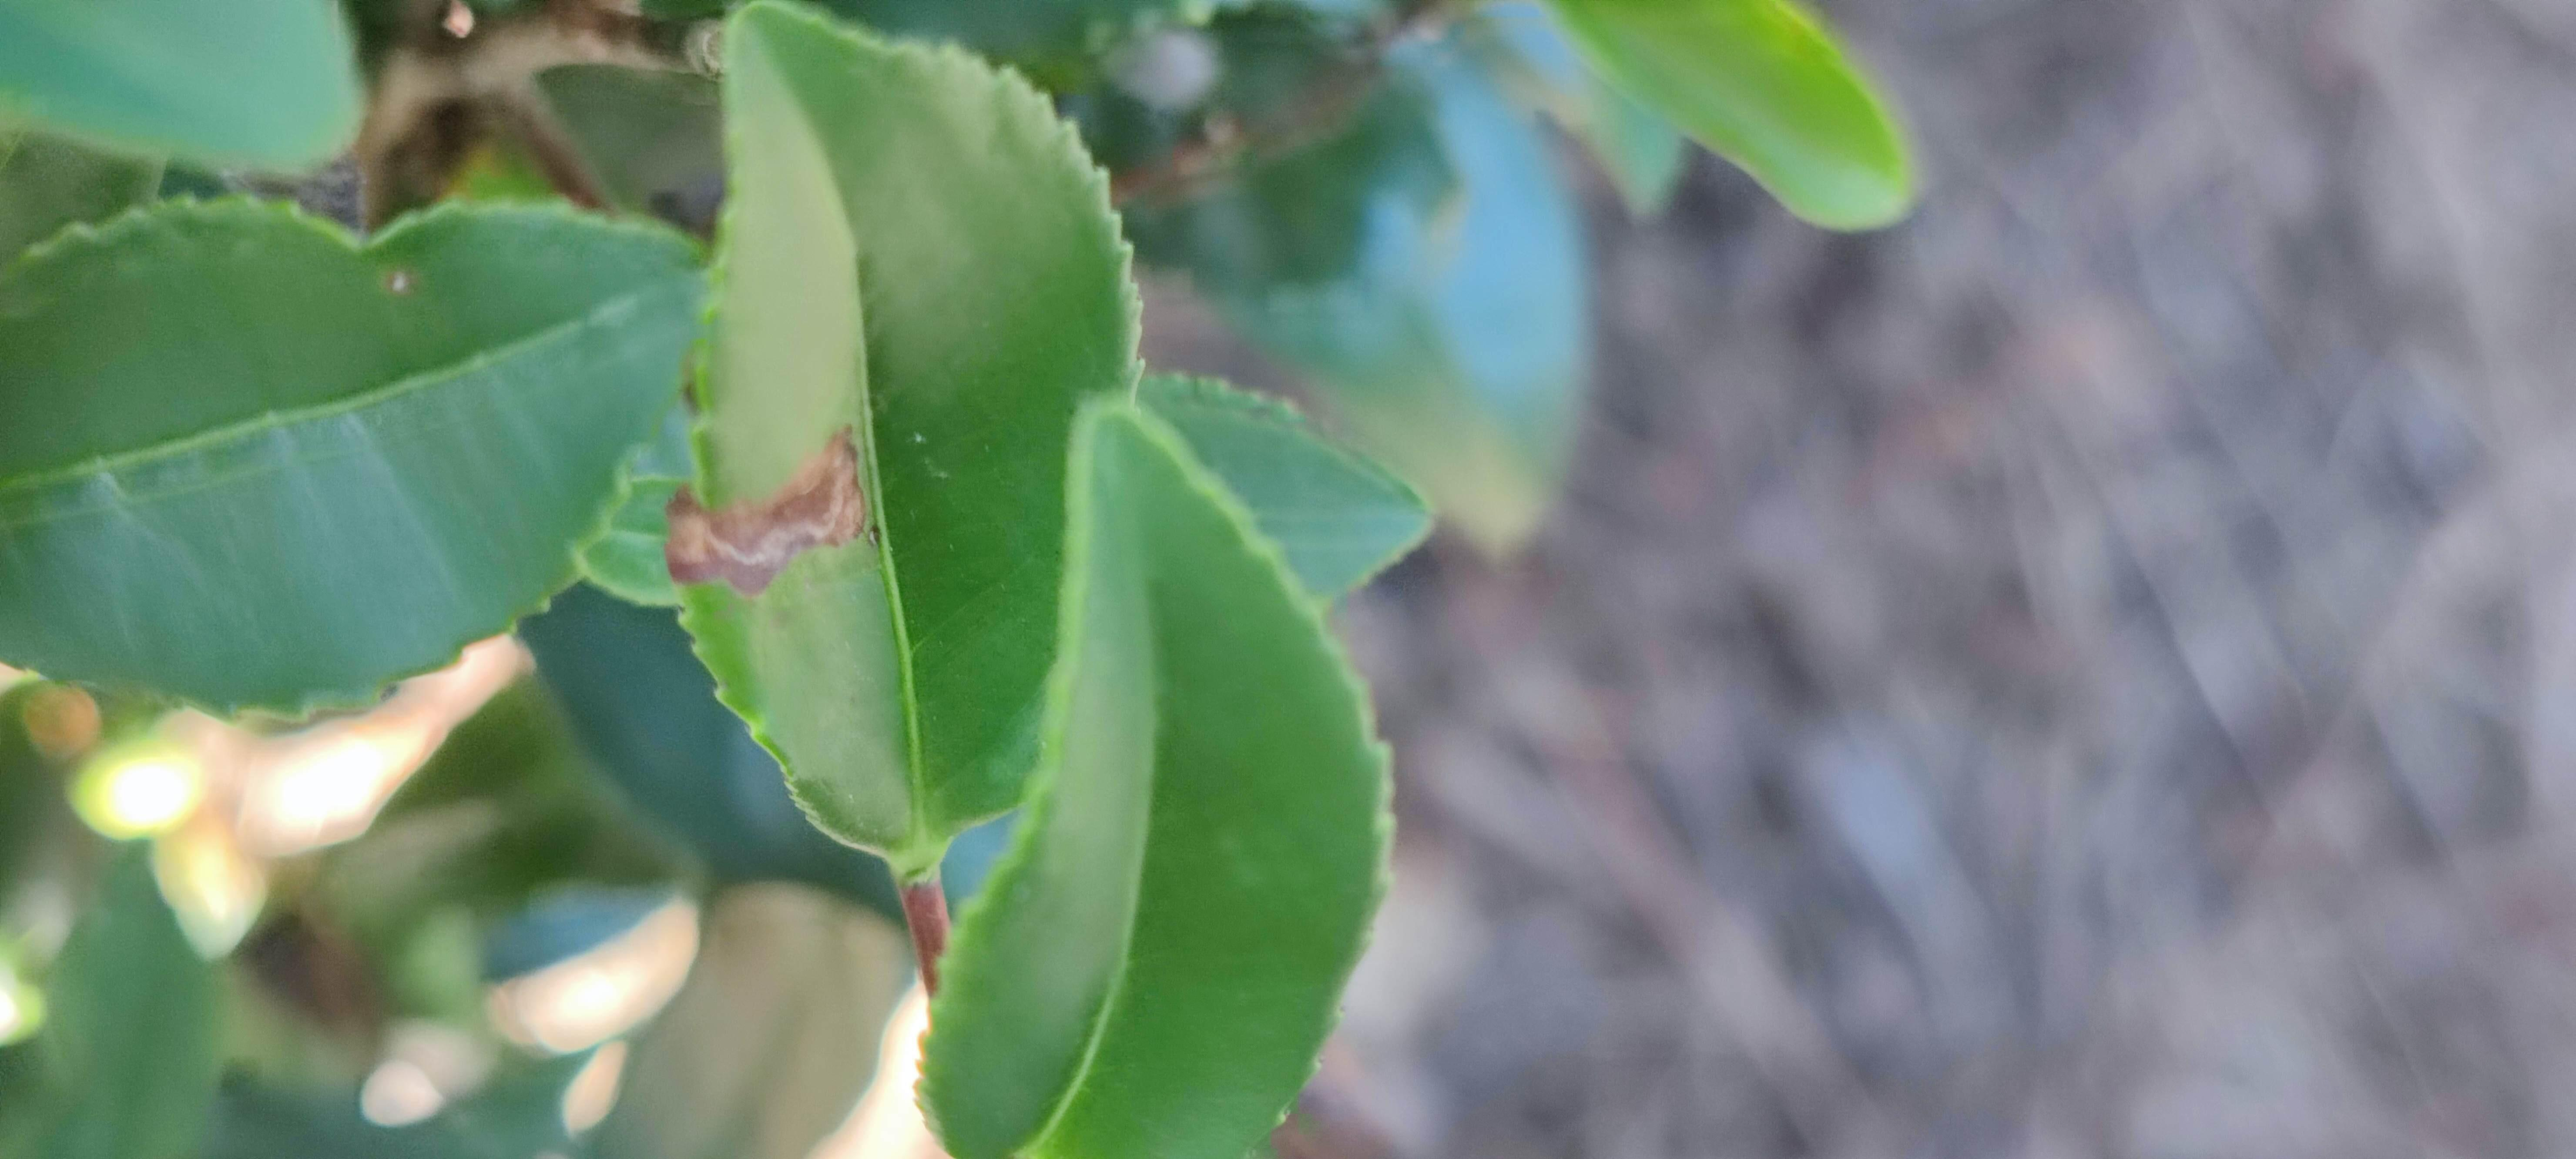healthy: (912, 407, 1400, 1154)
tanju_high: (655, 10, 1150, 857)
tanju_low: (2, 190, 716, 726)
